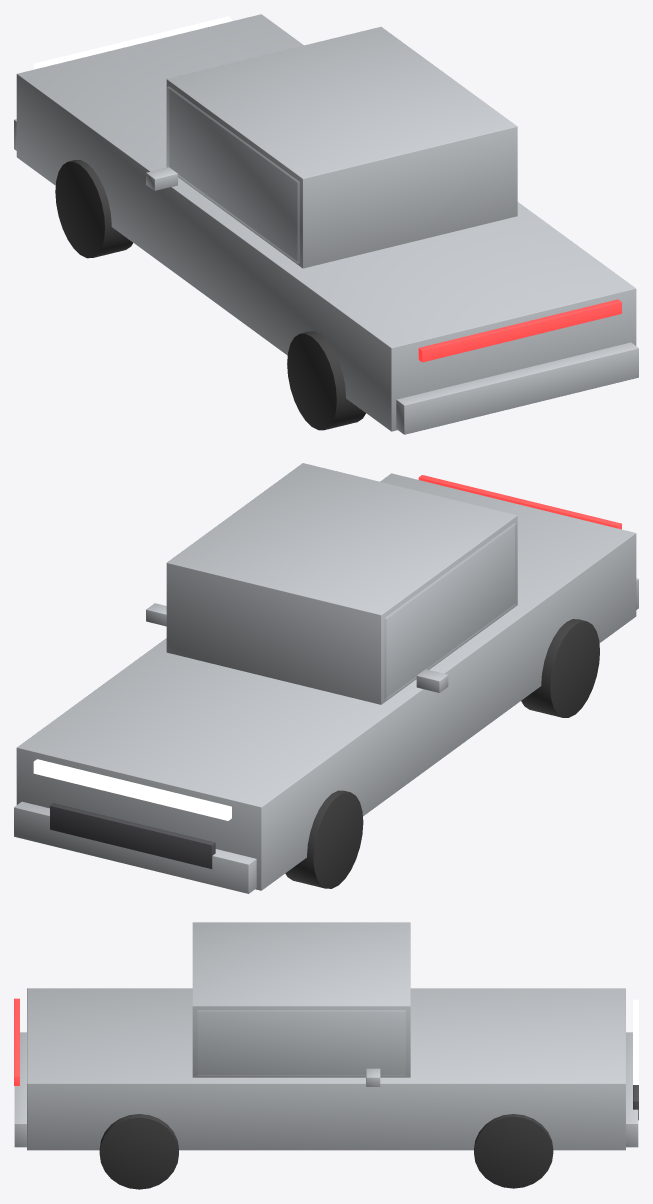
File: vehicle.glb
3 views of the same model, one above another, from view 1: azimuth 30°, elevation 25°; view 2: azimuth 150°, elevation 25°; view 3: azimuth 270°, elevation 25° (orthographic). The views are drawn at different scales.
Parts seen in each view (by area): view 1: BODY_Main, BODY_Roof, GLASS_Greenhouse, BODY_Bumpers_Rear, WHEEL_RR_Tire, WHEEL_FR_Tire, LIGHT_Taillights, LIGHT_Headlights, BODY_Mirror_R; view 2: BODY_Main, BODY_Roof, GLASS_Greenhouse, BODY_Bumpers_Front, WHEEL_RR_Tire, WHEEL_FR_Tire, BODY_Grille, LIGHT_Headlights, LIGHT_Taillights, BODY_Mirror_R; view 3: BODY_Main, BODY_Roof, GLASS_Greenhouse, WHEEL_RL_Tire, WHEEL_FL_Tire, BODY_Bumpers_Rear, BODY_Bumpers_Front, LIGHT_Taillights, LIGHT_Headlights.
Boxes of the visible parts, box(x1,y1,x2,y2) form: BODY_Main: box(16, 14, 636, 431); BODY_Roof: box(166, 26, 517, 268); GLASS_Greenhouse: box(167, 86, 299, 263); BODY_Bumpers_Rear: box(396, 342, 638, 434); WHEEL_RR_Tire: box(287, 331, 365, 430); WHEEL_FR_Tire: box(55, 160, 132, 258); LIGHT_Taillights: box(418, 299, 621, 362); LIGHT_Headlights: box(33, 16, 231, 69); BODY_Mirror_R: box(146, 167, 177, 190); BODY_Main: box(16, 473, 636, 890); BODY_Roof: box(166, 463, 517, 704); GLASS_Greenhouse: box(384, 523, 517, 699); BODY_Bumpers_Front: box(14, 801, 256, 893); WHEEL_RR_Tire: box(521, 619, 599, 717); WHEEL_FR_Tire: box(285, 790, 363, 888); BODY_Grille: box(50, 803, 215, 868); LIGHT_Headlights: box(33, 759, 231, 820); LIGHT_Taillights: box(418, 475, 621, 529); BODY_Mirror_R: box(416, 669, 448, 692); BODY_Main: box(27, 988, 625, 1150); BODY_Roof: box(192, 922, 410, 1077); GLASS_Greenhouse: box(197, 1010, 405, 1075); WHEEL_RL_Tire: box(99, 1114, 178, 1189); WHEEL_FL_Tire: box(474, 1114, 553, 1188); BODY_Bumpers_Rear: box(14, 1032, 26, 1147); BODY_Bumpers_Front: box(626, 1032, 638, 1147); LIGHT_Taillights: box(14, 998, 19, 1085); LIGHT_Headlights: box(633, 999, 638, 1084).
Size of the model in its own units: 2.28 by 1.62 by 5.26.
